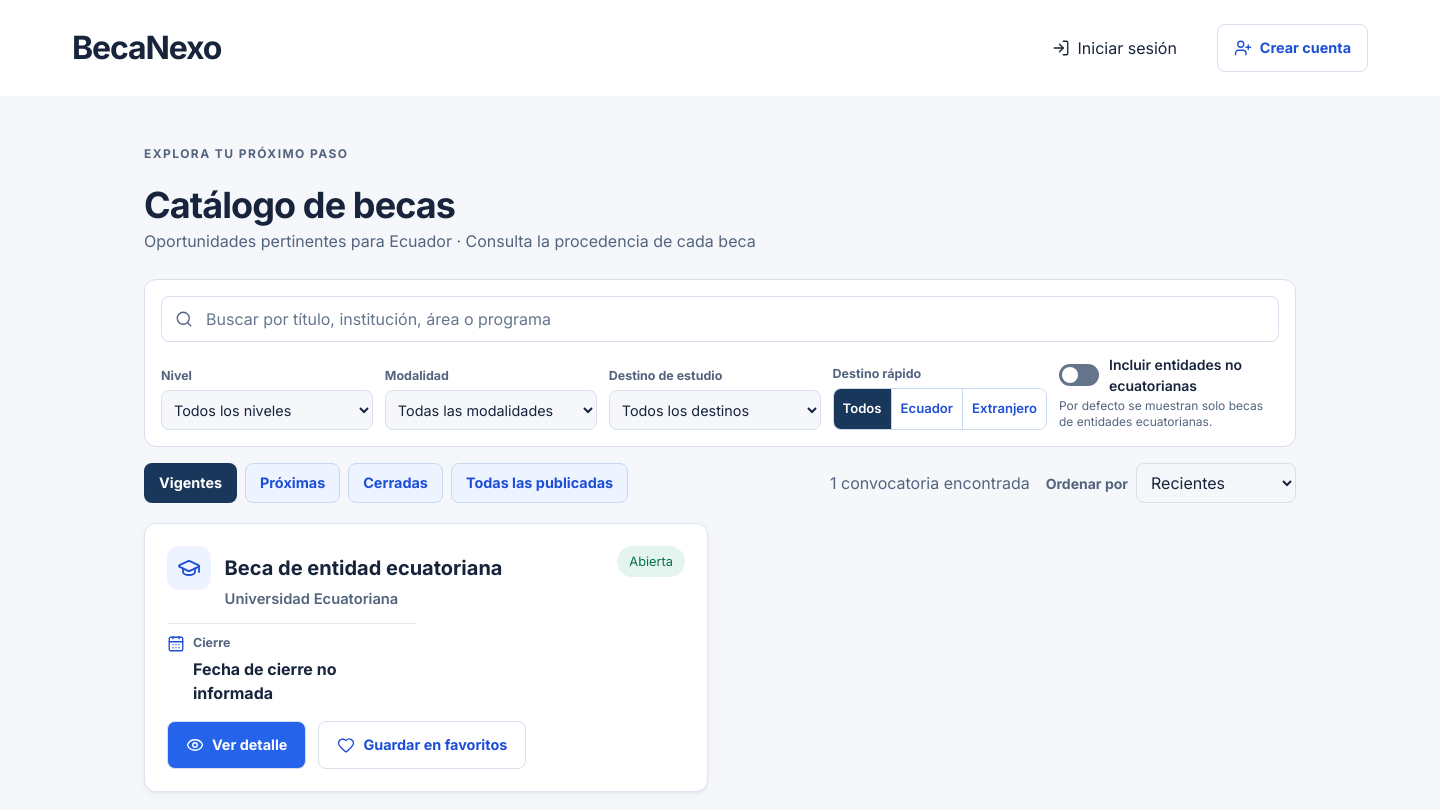
activar el interruptor incluye las demás al instante, deja el parámetro en la URL y desactivarlo lo quita
The width and height of the screenshot is (1440, 810).
What coordinates should you click on to do the following:
click the switch labelled "Incluir entidades no ecuatorianas"
I would click on:
 (1079, 375)
Its box is [1059,364,1099,386].
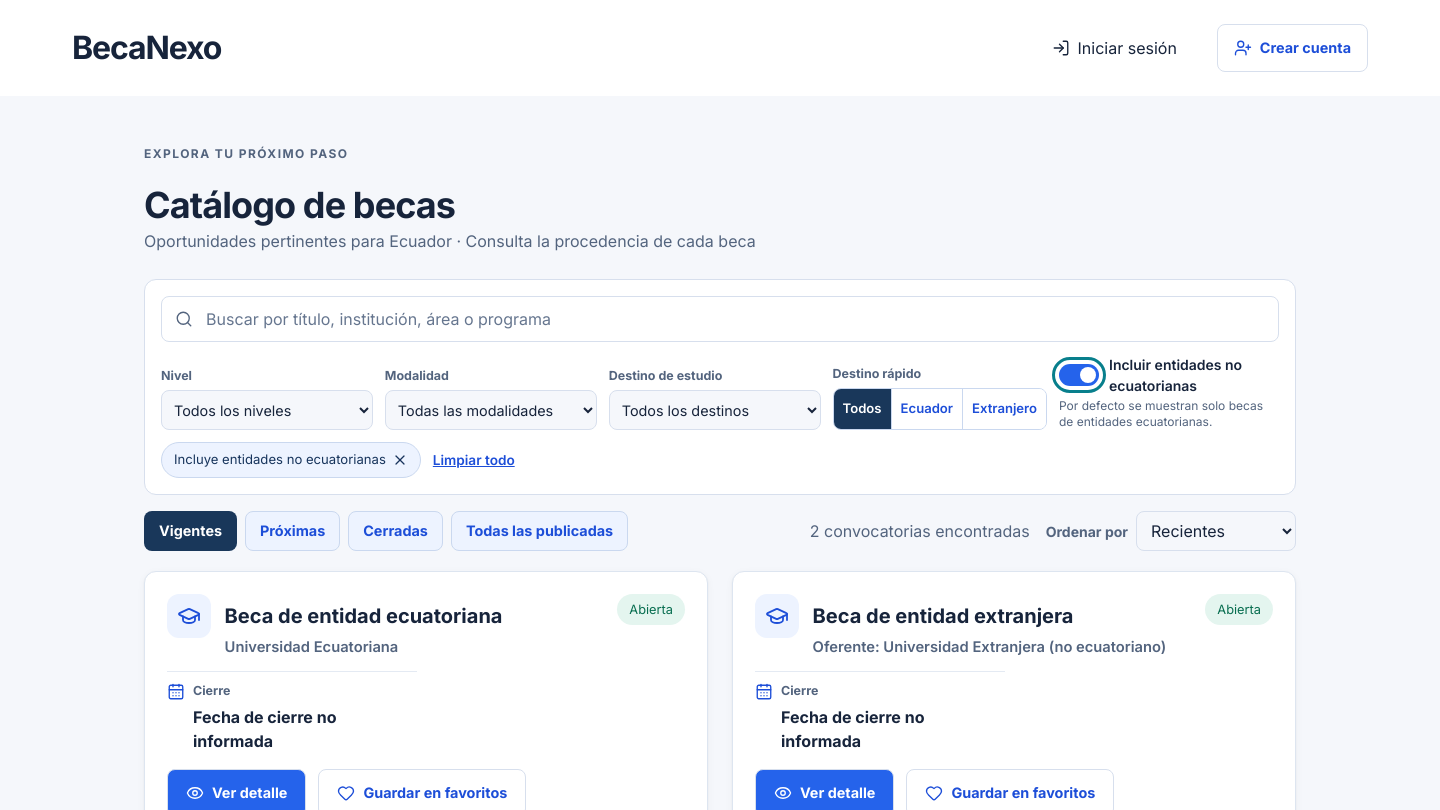
Expected: the heading "Beca de entidad extranjera" is shown, [813,604,1074,628]
Expected: the text "Oferente: Universidad Extranjera (no ecuatoriano)" is shown, [813,636,1191,659]
Expected: the text "2 convocatorias encontradas" is shown, [810,519,1030,543]
What coordinates should you click on to do the following:
click the switch labelled "Incluir entidades no ecuatorianas"
I would click on:
 (1079, 375)
Its box is [1059,364,1099,386].
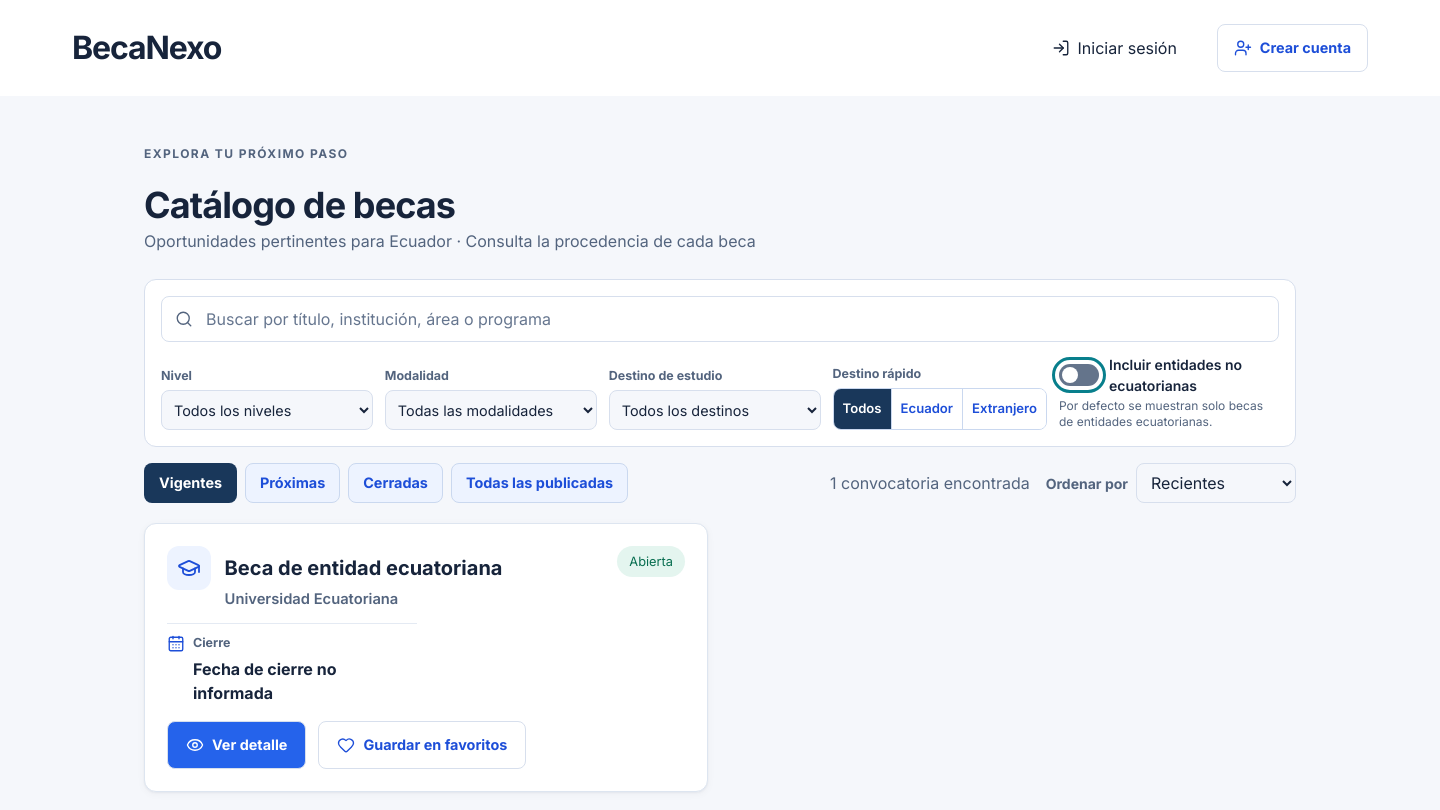
Expected: the heading "Beca de entidad extranjera" is gone
